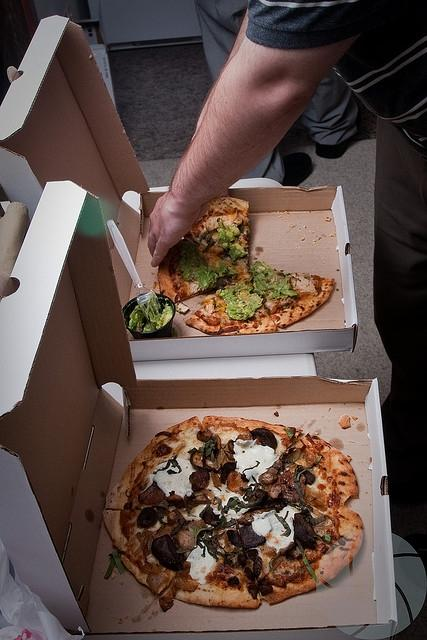mushroom: (150, 534, 188, 572), (170, 518, 208, 550), (280, 469, 305, 503), (236, 508, 280, 526), (239, 522, 266, 550), (138, 480, 166, 504), (183, 488, 216, 507), (294, 525, 317, 550), (250, 428, 277, 449), (136, 506, 158, 530), (226, 472, 248, 494), (189, 469, 210, 492), (199, 504, 220, 527), (278, 447, 302, 465), (280, 542, 303, 560), (190, 451, 210, 471), (248, 488, 268, 503), (226, 530, 242, 548), (258, 577, 273, 596), (166, 494, 186, 508), (258, 472, 278, 486), (252, 554, 262, 579), (167, 509, 184, 523), (242, 548, 258, 562), (196, 430, 214, 442), (248, 582, 260, 600), (268, 484, 283, 498), (302, 470, 316, 485), (210, 471, 222, 487), (244, 567, 255, 582), (224, 449, 236, 461), (272, 459, 284, 470), (237, 552, 246, 566), (231, 552, 239, 564)
